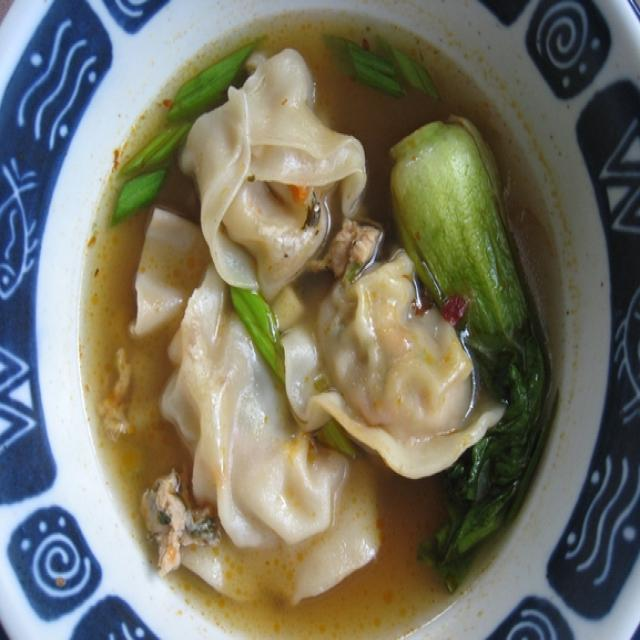汤锅炖物: (20, 10, 628, 634)
